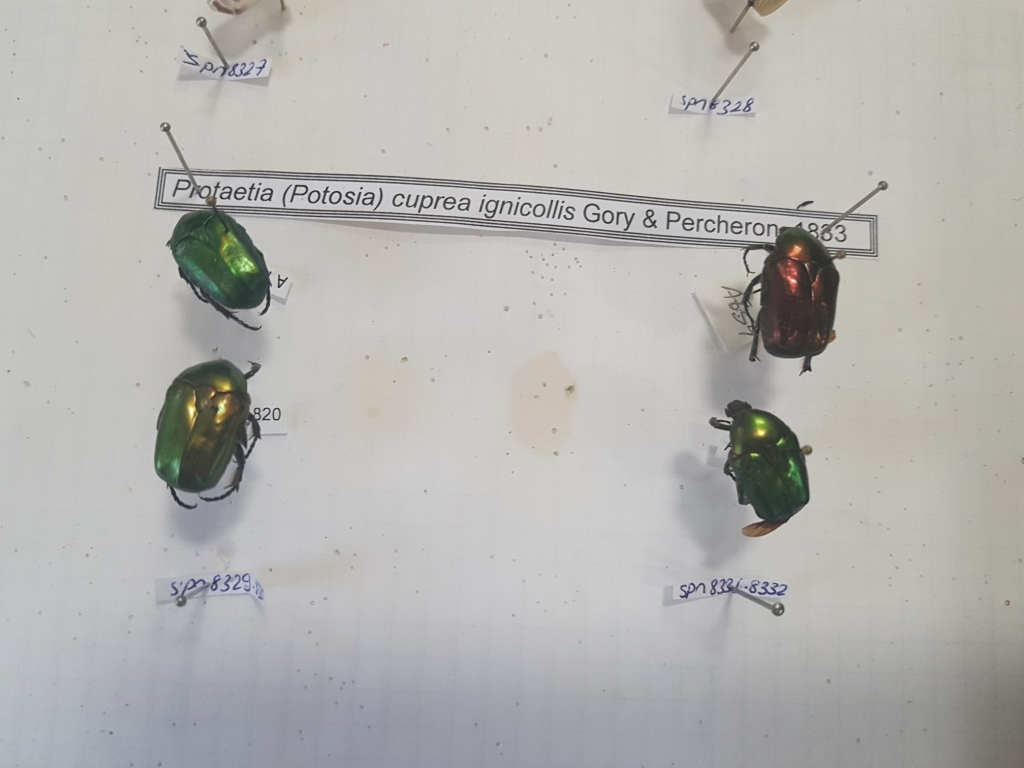Protaetia_cuprea_ignicollis: (135, 355, 273, 508), (155, 200, 283, 327), (703, 394, 818, 535)
